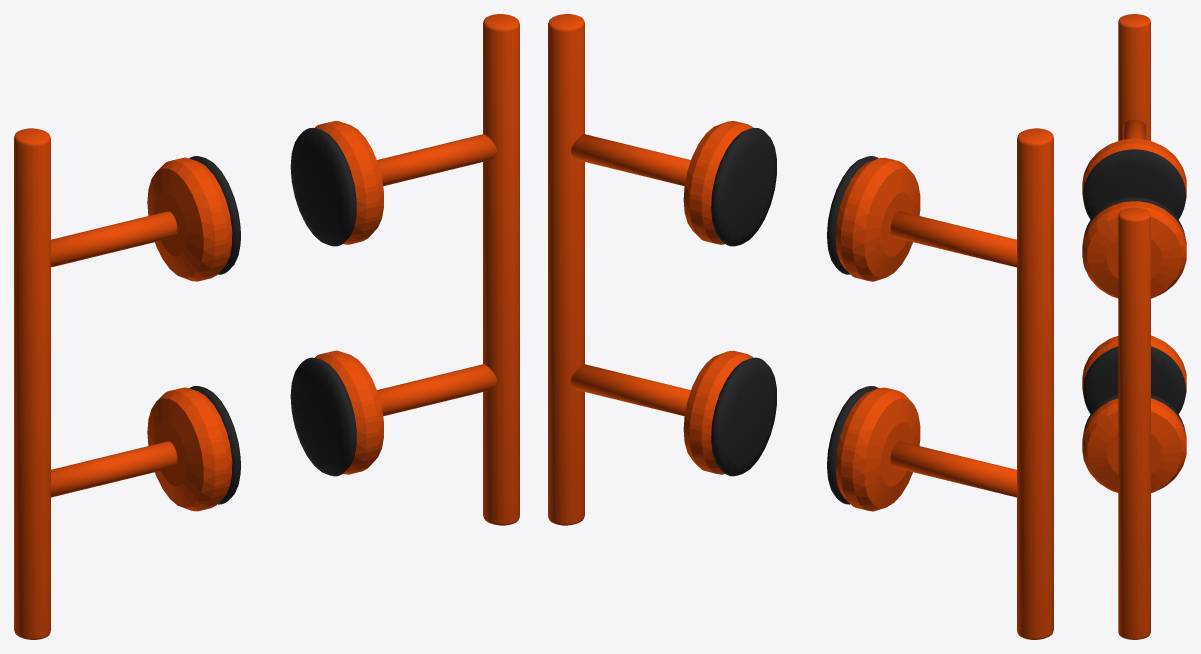
The model's file is Barrier_3.fbx.
3 renders of one model, left to right at view 1: azimuth 30°, elevation 25°; view 2: azimuth 150°, elevation 25°; view 3: azimuth 270°, elevation 25°, orthographic. The views are drawn at different scales.
Parts seen in each view (by area): view 1: Barrier, Barrier_Right_2, Barrier_Right_1, Barrier_Left_1, Barrier_Left_2; view 2: Barrier, Barrier_Right_1, Barrier_Right_2, Barrier_Left_2, Barrier_Left_1; view 3: Barrier, Barrier_Left_1, Barrier_Right_1, Barrier_Right_2, Barrier_Left_2.
Part boxes in pixels (x1,y1,x2,y2): Barrier: (14,14,519,639); Barrier_Right_2: (290,350,496,476); Barrier_Right_1: (290,121,496,246); Barrier_Left_1: (50,156,240,281); Barrier_Left_2: (50,386,240,511); Barrier: (548,14,1053,639); Barrier_Right_1: (571,121,776,246); Barrier_Right_2: (571,350,776,476); Barrier_Left_2: (827,386,1017,511); Barrier_Left_1: (827,156,1017,281); Barrier: (1118,14,1150,639); Barrier_Left_1: (1082,119,1186,219); Barrier_Right_1: (1082,197,1186,298); Barrier_Right_2: (1082,394,1186,492); Barrier_Left_2: (1082,335,1186,413).
Size of the model in its own units: 347 by 330 by 74.32.
